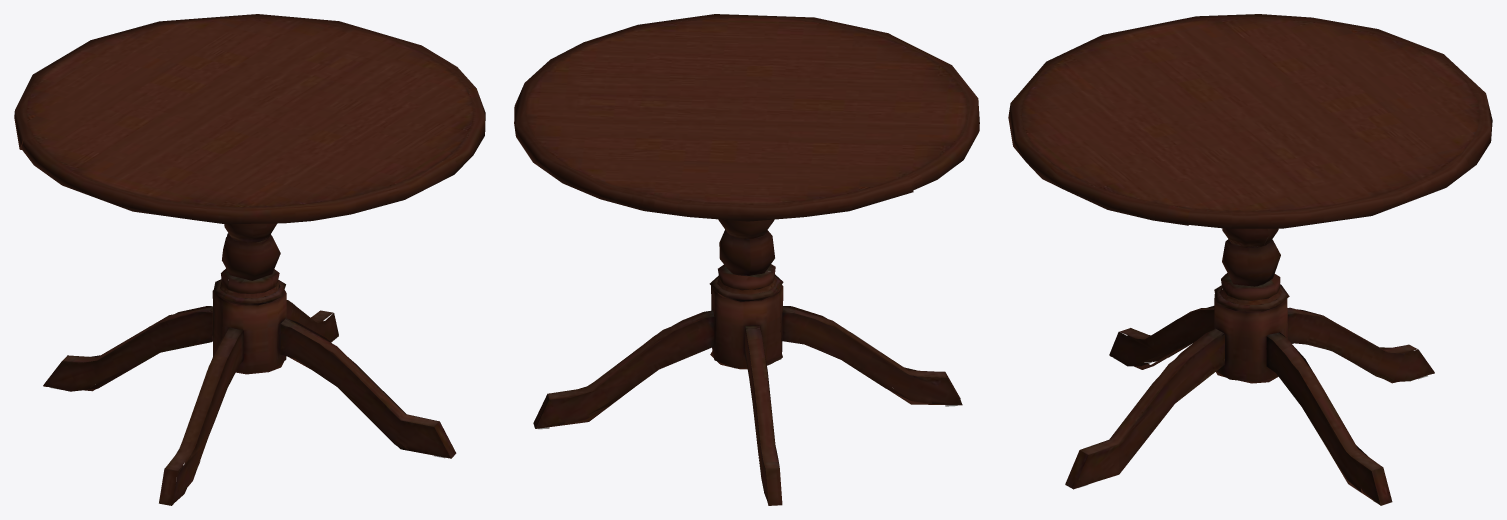
Rendered from ph_round_wooden_table_01.glb.
3 renders of one model, left to right at view 1: azimuth 30°, elevation 25°; view 2: azimuth 150°, elevation 25°; view 3: azimuth 270°, elevation 25°, orthographic. The views are drawn at different scales.
Visible parts, largest first — view 1: round_wooden_table_01; view 2: round_wooden_table_01; view 3: round_wooden_table_01.
Boxes of the visible parts, x1=… form: round_wooden_table_01: x1=14, y1=14, x2=485, y2=505; round_wooden_table_01: x1=514, y1=14, x2=979, y2=505; round_wooden_table_01: x1=1008, y1=14, x2=1492, y2=505.
Bounding box in the file's own units: 1.4 × 1 × 1.4.
1 material, 1 textured.
